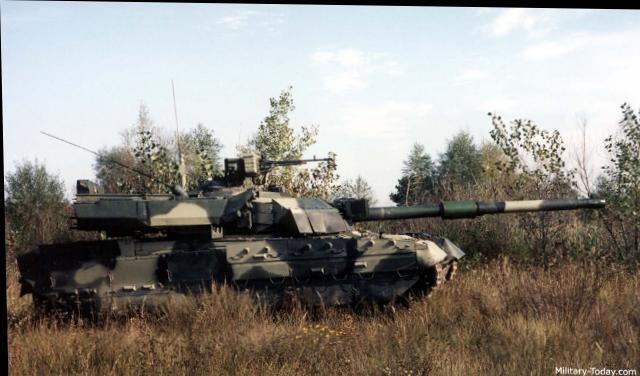tank: (14, 150, 458, 309)
